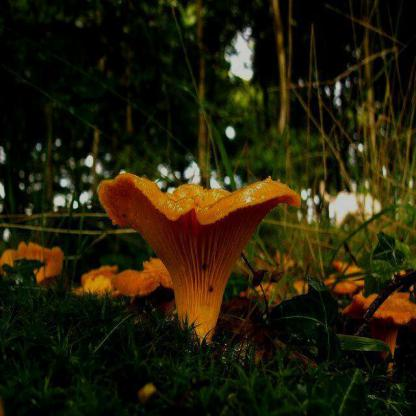chanterelle: (98, 172, 300, 353)
